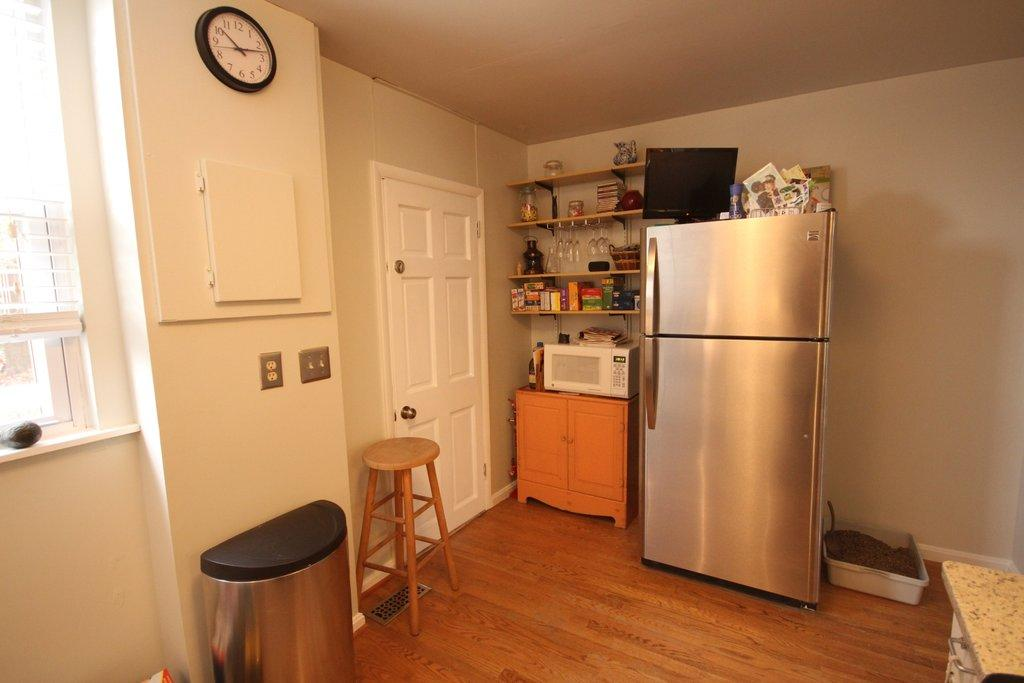cabinet_door: (568, 399, 622, 497), (520, 396, 566, 476)
handle: (632, 334, 662, 431), (637, 237, 659, 327), (402, 402, 422, 427)
